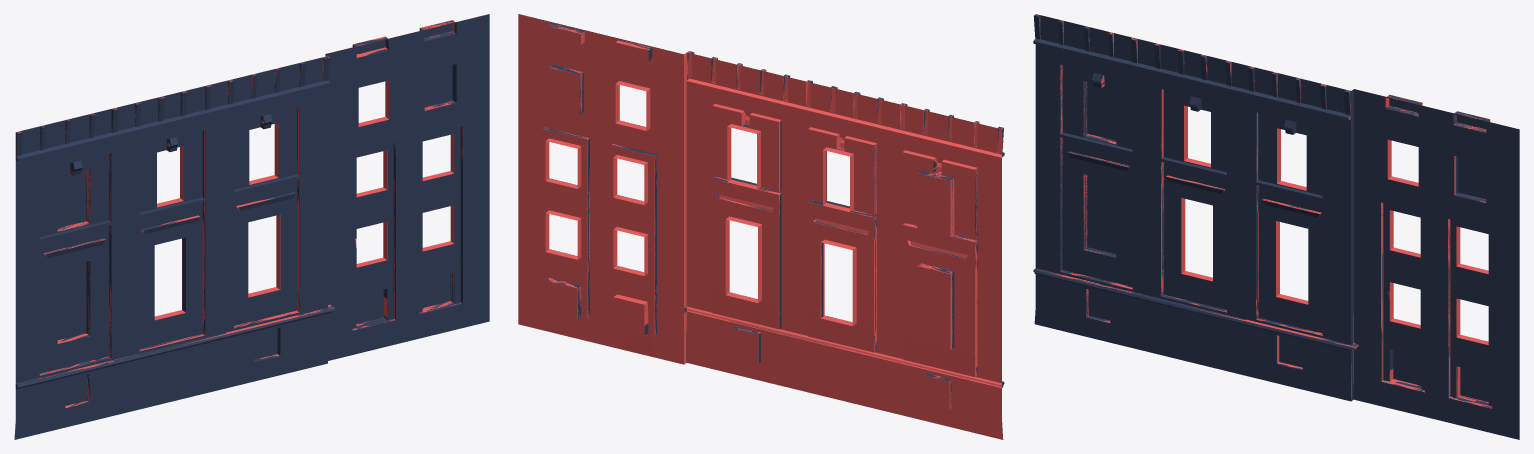
Rendered from FACADEenPLAASTER.dae.
The picture shows the model from 3 angles, left to right: view 1: azimuth 30°, elevation 25°; view 2: azimuth 150°, elevation 25°; view 3: azimuth 330°, elevation 25°; orthographic projection.
Visible parts, largest first — view 1: PLAASTER_singlebroke, FACADE; view 2: FACADE, PLAASTER_singlebroke; view 3: PLAASTER_singlebroke, FACADE.
Part boxes in pixels (box(x1,y1,x2,y2)): PLAASTER_singlebroke: box(14, 14, 489, 439); FACADE: box(14, 14, 487, 436); FACADE: box(518, 14, 1003, 439); PLAASTER_singlebroke: box(520, 14, 1004, 439); PLAASTER_singlebroke: box(1033, 14, 1519, 439); FACADE: box(1035, 14, 1518, 408).
Bounding box in the file's own units: 185581 × 114170 × 7614.
Materials: 2 (2 with a texture image).
